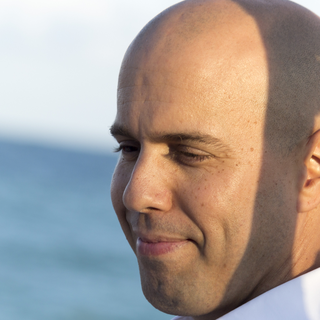eye: (168, 144, 214, 168)
